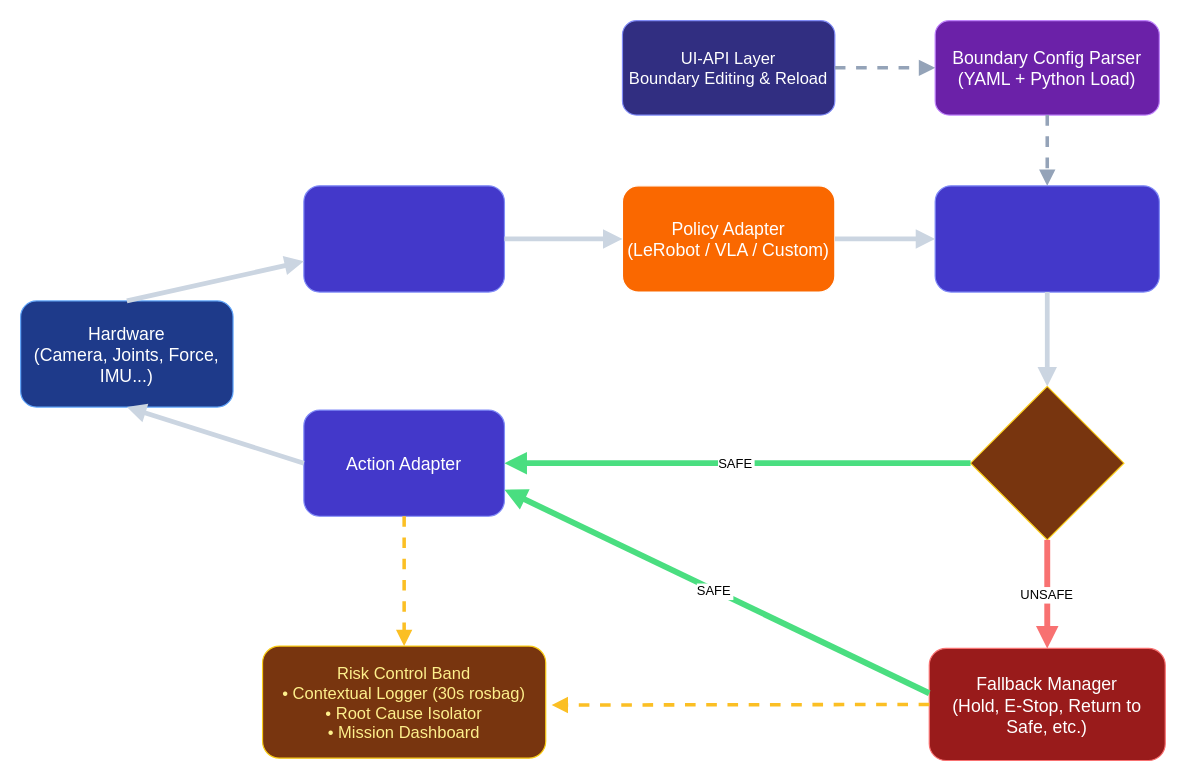
Some shapes in this 1186 by 781 pixel diagram are drawn without their labels. Here are the shapes that lost their labels. From the top down, the centre of each, then its label:
At (403,238): "Sensor Adapter".
At (1046,238): "Guard Runtime (L0~L4 Guards Execution)".
At (1046,462): "Decision Aggregator Any Guard Fail?".
